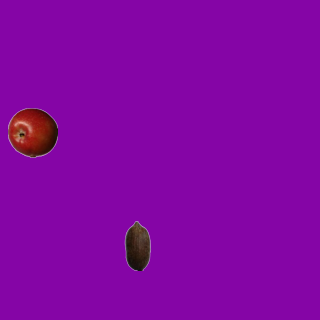Apple Braeburn: (7, 107, 57, 157)
Nut Pecan: (112, 220, 162, 270)
